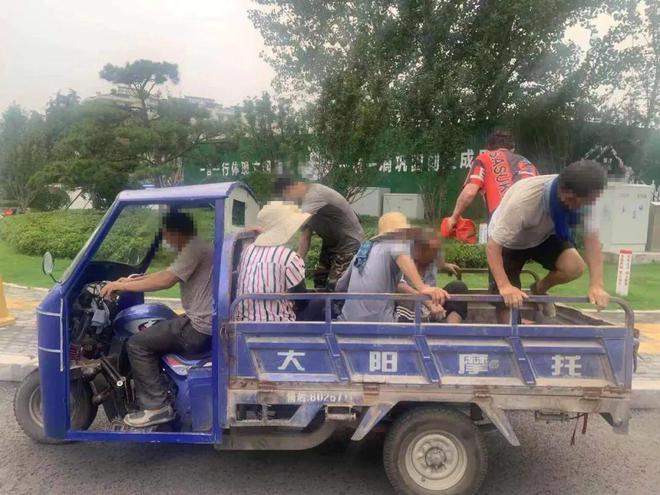driver: (91, 180, 223, 437)
overloading: (31, 119, 648, 483)
passenger: (473, 158, 648, 352), (440, 107, 538, 258), (268, 167, 370, 299), (355, 196, 433, 341), (235, 185, 309, 331)
